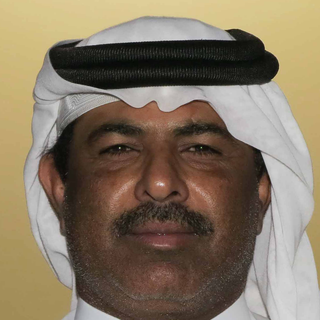eye: (97, 139, 143, 162), (179, 139, 224, 162)
